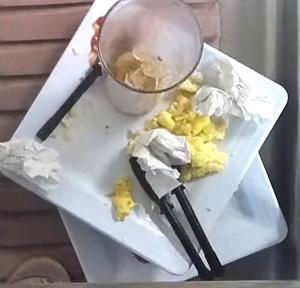scrambled_eggs: (145, 75, 224, 180), (111, 176, 133, 219)
